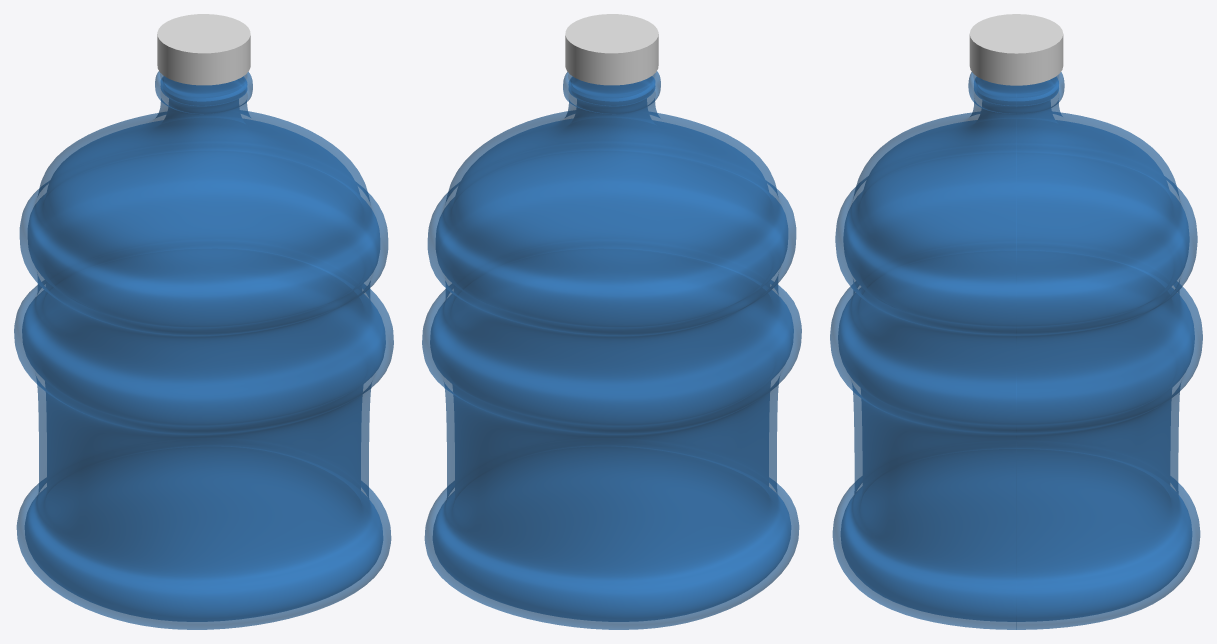
File: Water jug.fbx
3 views of the same model, side by side, from view 1: azimuth 30°, elevation 25°; view 2: azimuth 150°, elevation 25°; view 3: azimuth 270°, elevation 25° (orthographic).
Parts seen in each view (by area): view 1: Cube; view 2: Cube; view 3: Cube.
Boxes of the visible parts, x1,y1,x2,y2 form: Cube: (14,14,393,629); Cube: (422,14,801,629); Cube: (830,14,1202,629).
Size of the model in its own units: 233 by 365 by 233.
